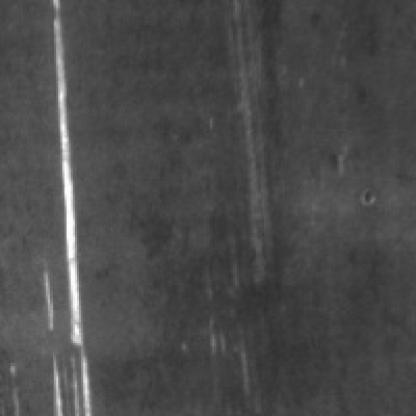scratches: (41, 2, 92, 416)
